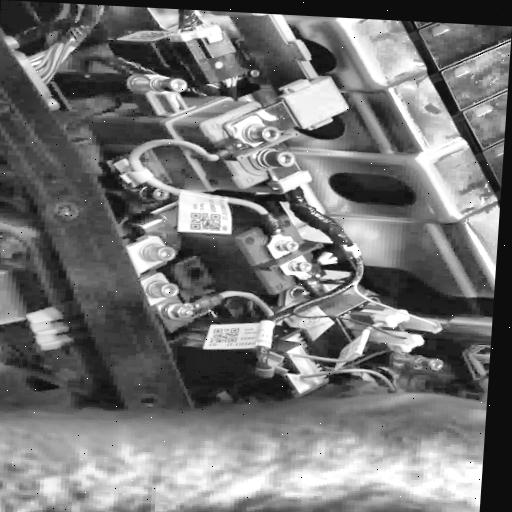busbar: (206, 11, 353, 132)
high_volt_cable: (117, 134, 290, 239)
low_volt_cable: (234, 184, 370, 388)
nut: (126, 74, 186, 95), (254, 147, 292, 171), (242, 121, 278, 144), (143, 278, 179, 300), (139, 243, 176, 264), (162, 302, 195, 320), (273, 238, 300, 254), (285, 259, 312, 275), (292, 287, 310, 299)
